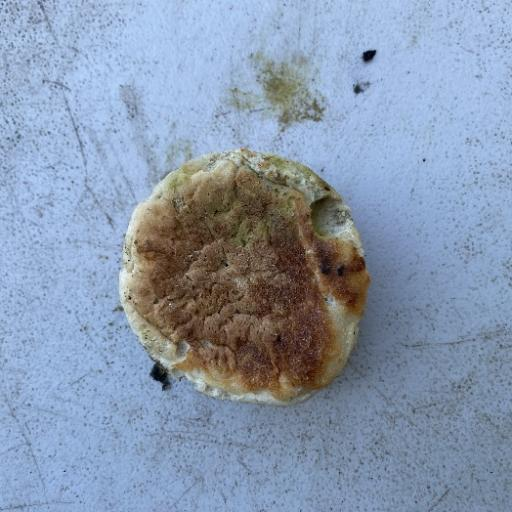Waste: (118, 146, 372, 408)
